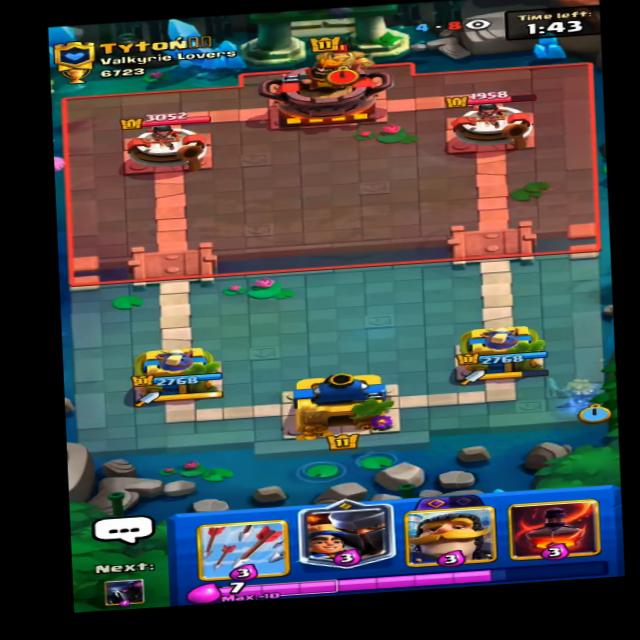Knight: (307, 39, 381, 78)
